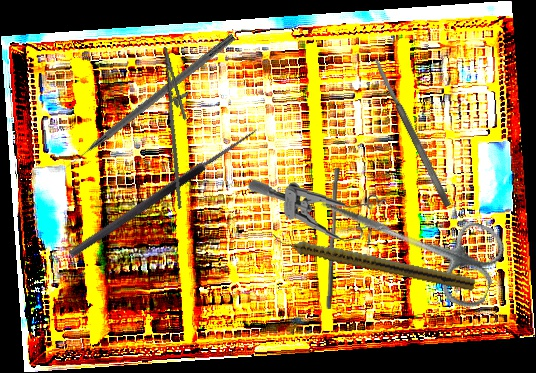Handpiece: (270, 231, 477, 292)
Hook Surgical: (61, 116, 261, 260), (59, 31, 237, 174)
Iris Scissors: (305, 168, 510, 313)
Needle Holder: (144, 44, 213, 209)
Pusher: (326, 167, 340, 310)
Spatula Surgical: (372, 56, 452, 209)
Speculum: (245, 178, 388, 246)
